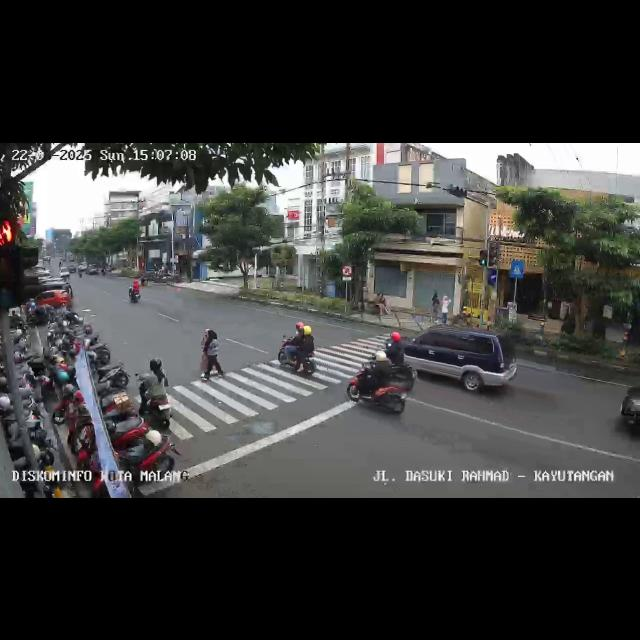car: (406, 324, 514, 394), (612, 380, 640, 446), (34, 277, 74, 309)
motorcycle: (350, 344, 414, 418), (278, 323, 318, 377), (386, 331, 418, 394), (144, 362, 172, 428), (126, 276, 144, 302)
person: (198, 326, 222, 384), (441, 294, 451, 324), (431, 292, 439, 322)
